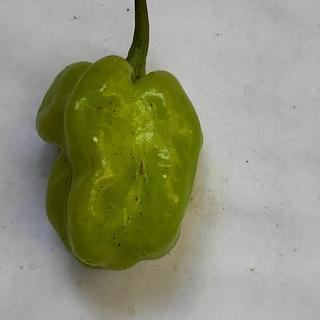Defect: (132, 158, 150, 179)
Fly-bites: (133, 202, 150, 225), (110, 238, 127, 253), (128, 190, 143, 206), (101, 201, 116, 211)
